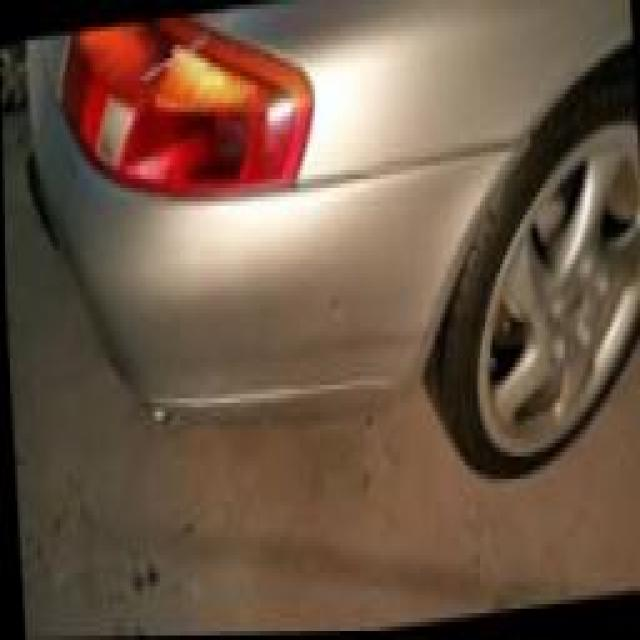Light: (129, 19, 215, 89)
